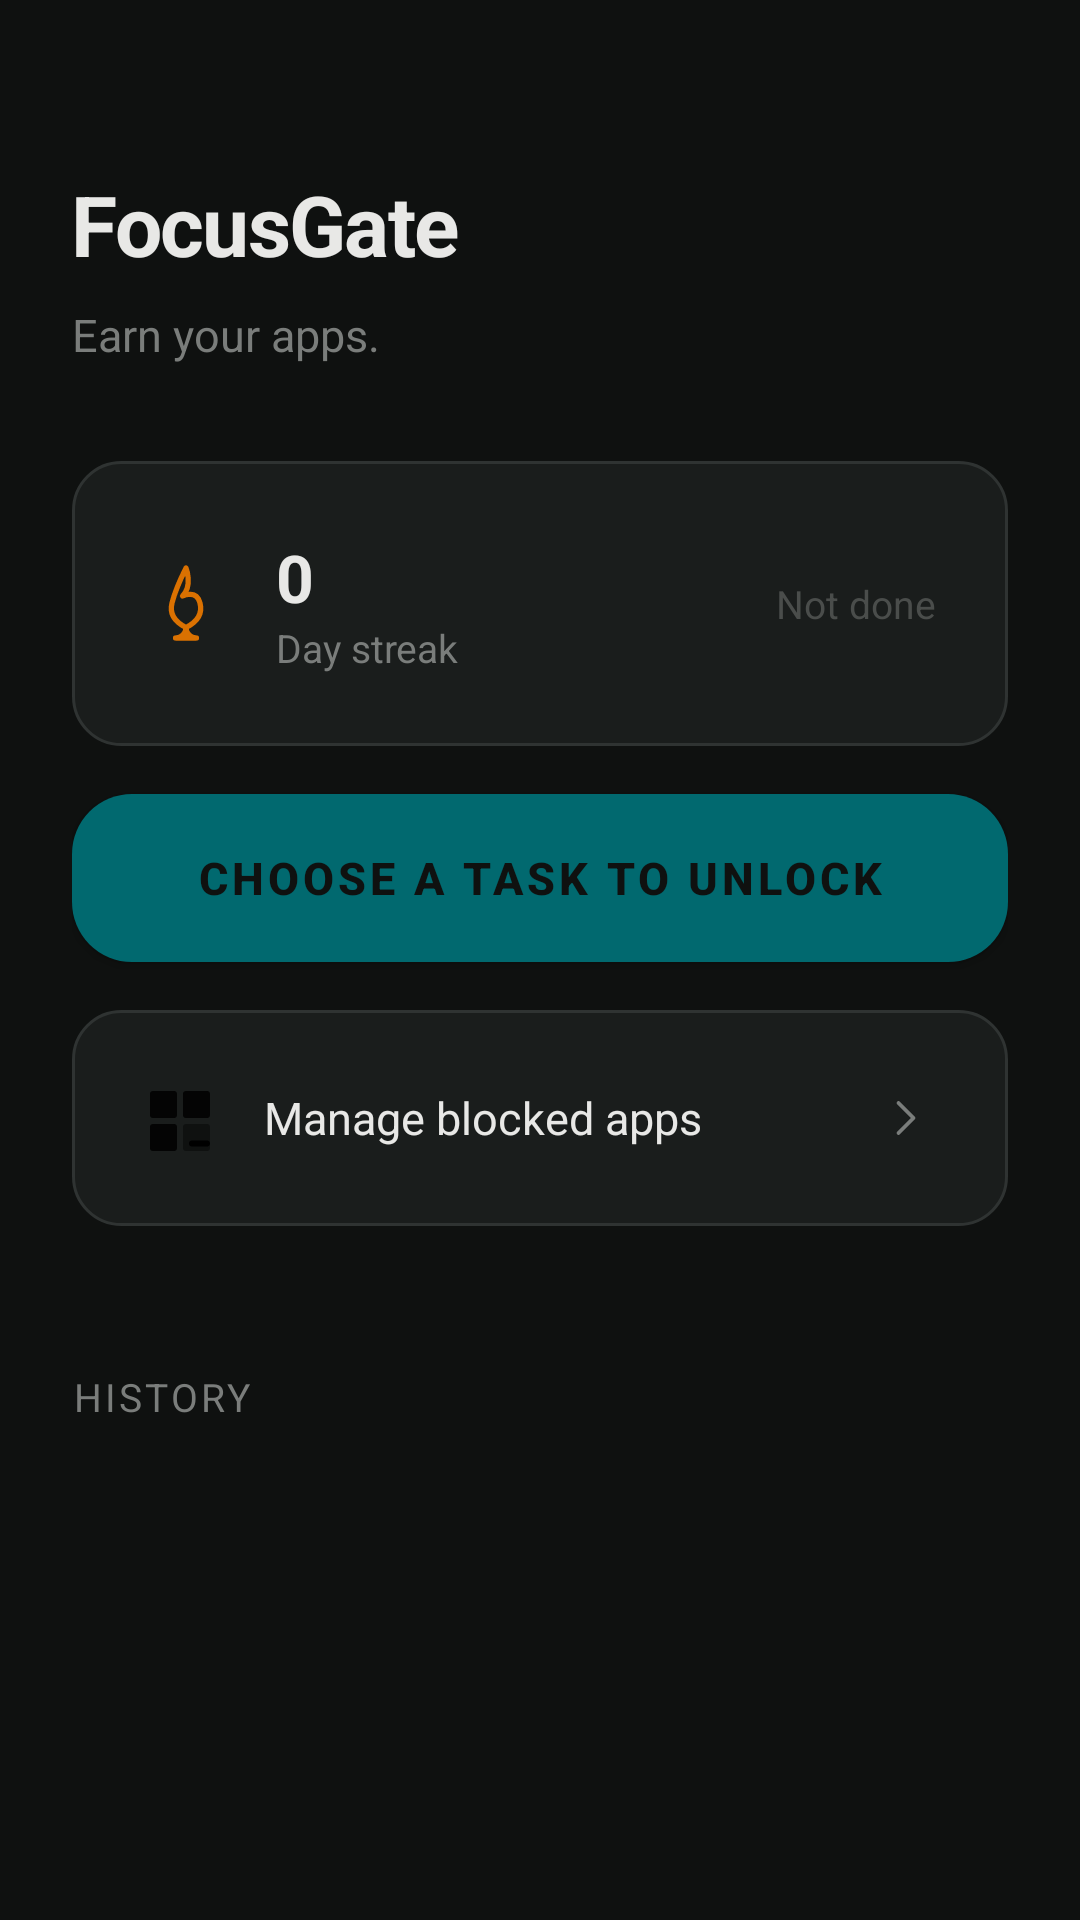

Icons on this 1080×1920 Android screen, each with its box as (x1, y1, x2, y2):
chevron right: (897, 1101, 915, 1135)
flame: (168, 565, 204, 641)
